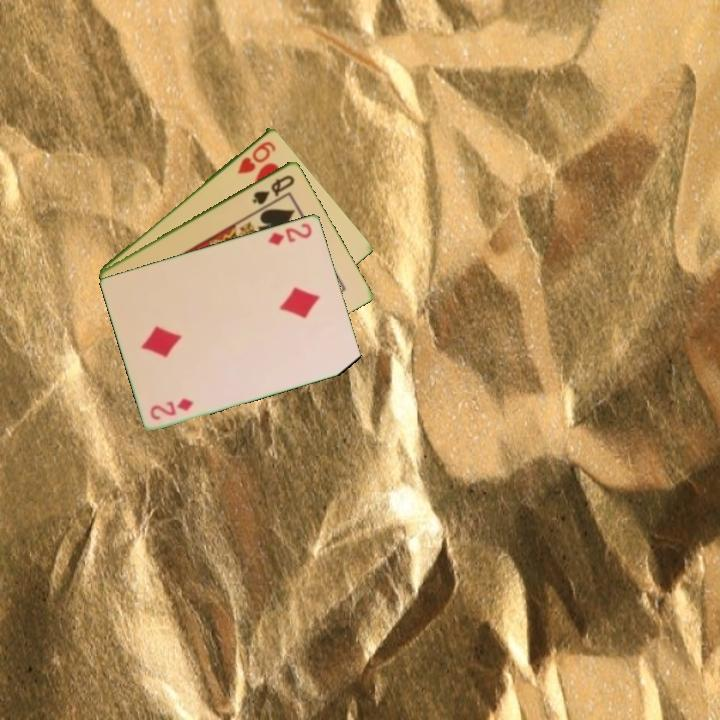2d: (264, 219, 315, 248), (146, 394, 197, 422)
6h: (234, 137, 279, 176)
Qs: (249, 171, 298, 207)
